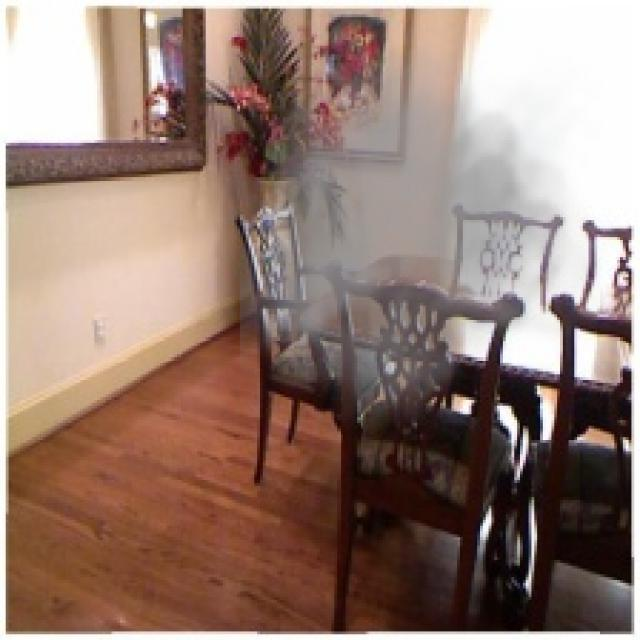Smoke: (240, 28, 609, 440)
